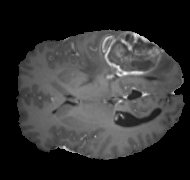Edema: (78, 31, 172, 86)
EnhancingTumors: (102, 31, 163, 75)
Necrosis: (104, 34, 163, 77)
